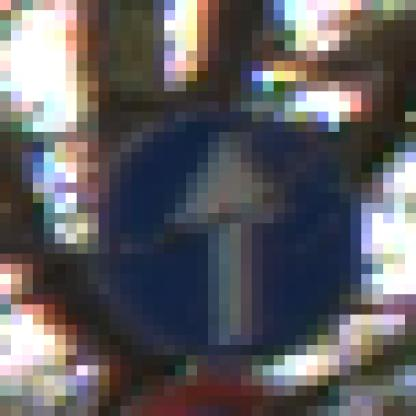AheadOnly: (67, 52, 351, 366)
